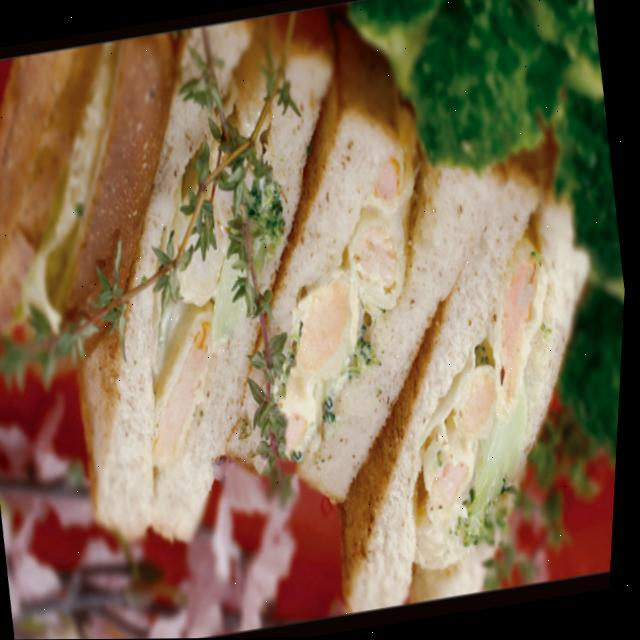三明治: (16, 0, 605, 640)
